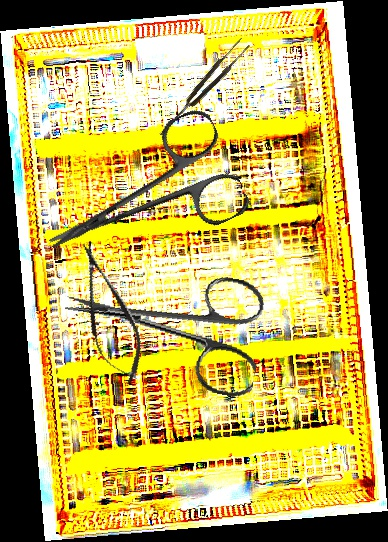Iris Scissors: (24, 104, 254, 293), (54, 248, 273, 400)
Micro Scissor: (64, 235, 153, 390)
Tissue Forceps: (154, 36, 252, 140)
